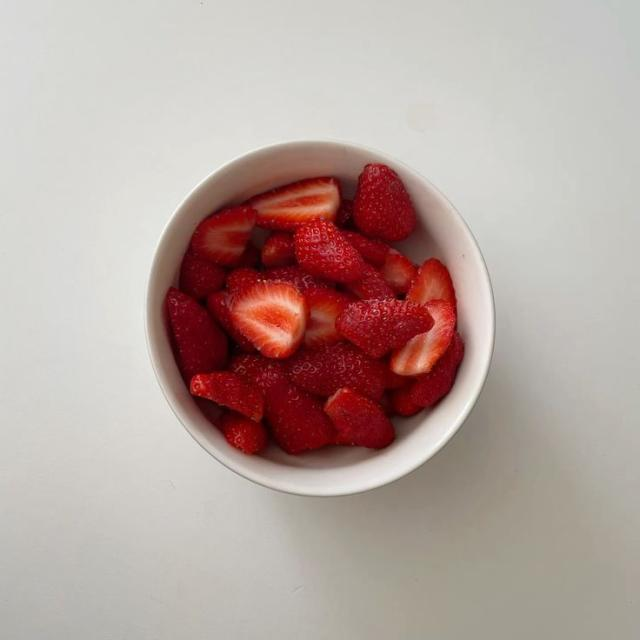strawberry sliced: (231, 355, 335, 453), (231, 282, 308, 358), (167, 288, 227, 383), (336, 300, 433, 358), (290, 342, 386, 399), (391, 300, 455, 375), (354, 164, 416, 241), (248, 178, 339, 230), (294, 220, 364, 282), (325, 388, 394, 448), (409, 332, 464, 406), (191, 206, 256, 266), (190, 372, 263, 420), (207, 291, 255, 353), (304, 288, 350, 346), (407, 259, 456, 310), (217, 411, 267, 454), (180, 252, 225, 299), (262, 266, 330, 293), (345, 264, 394, 299), (341, 231, 390, 266), (380, 248, 417, 293), (262, 232, 295, 267), (227, 267, 263, 293), (390, 388, 422, 416), (385, 369, 412, 389), (238, 242, 259, 266), (336, 199, 353, 226), (378, 392, 393, 418)
